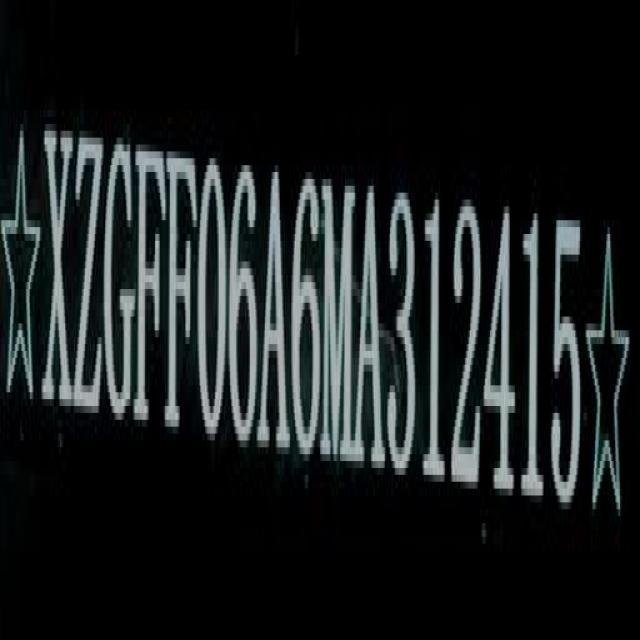0: (194, 135, 229, 444)
1: (422, 191, 447, 495), (520, 201, 544, 502)
2: (453, 194, 481, 489)
3: (385, 178, 419, 490)
4: (484, 201, 518, 505)
5: (552, 214, 580, 510)
6: (289, 148, 323, 466), (230, 133, 258, 441)
A: (353, 184, 388, 479), (257, 166, 290, 446)
F: (133, 120, 167, 431), (165, 130, 195, 426)
G: (104, 115, 134, 423)
M: (322, 163, 356, 474)
X: (44, 122, 74, 418)
Z: (73, 115, 104, 428)
